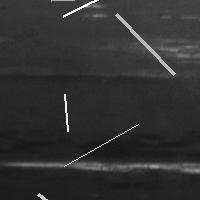scratches: (111, 9, 179, 79), (59, 119, 143, 171), (4, 154, 199, 176), (58, 0, 127, 21), (59, 89, 72, 136), (33, 189, 83, 200), (46, 0, 126, 5)
